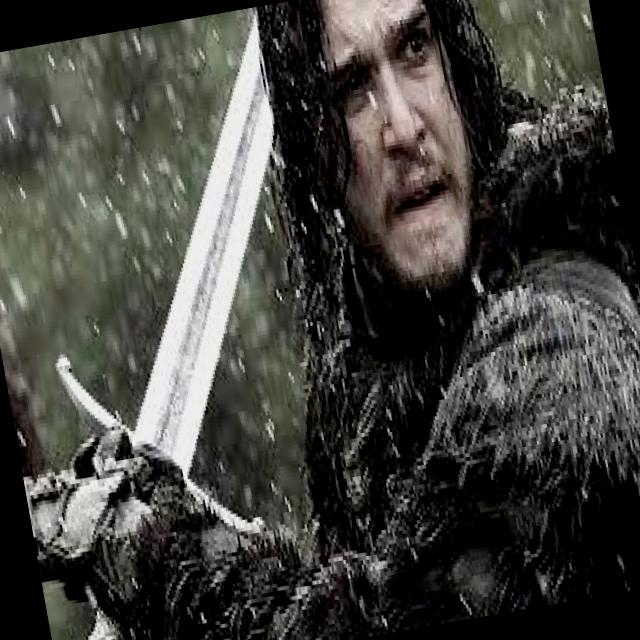long sword: (0, 22, 363, 640)
